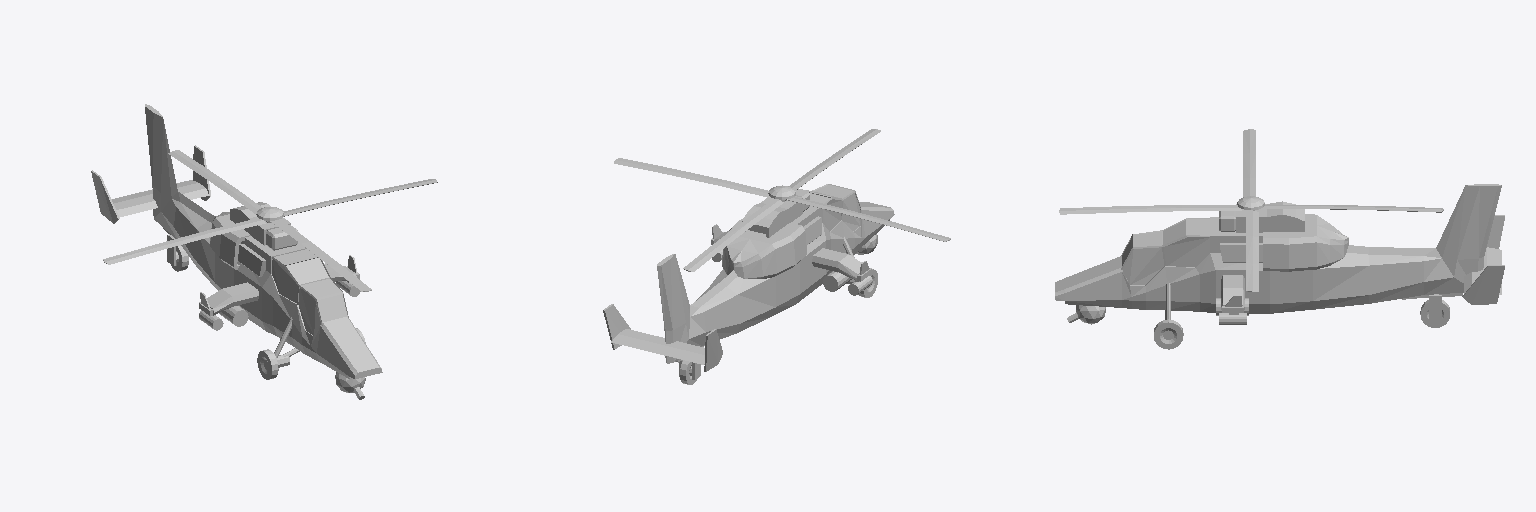
Rendered from helicopter.obj.
3 views of the same model, side by side, from view 1: azimuth 30°, elevation 25°; view 2: azimuth 150°, elevation 25°; view 3: azimuth 270°, elevation 25° (orthographic).
Visible parts, largest first — view 1: Hull_Cube; view 2: Hull_Cube; view 3: Hull_Cube.
Boxes of the visible parts, box(x1,y1,x2,y2) form: Hull_Cube: box(91, 104, 437, 399); Hull_Cube: box(603, 129, 950, 384); Hull_Cube: box(1055, 129, 1504, 349).
Bounding box in the file's own units: 12.68 × 5.14 × 14.86.